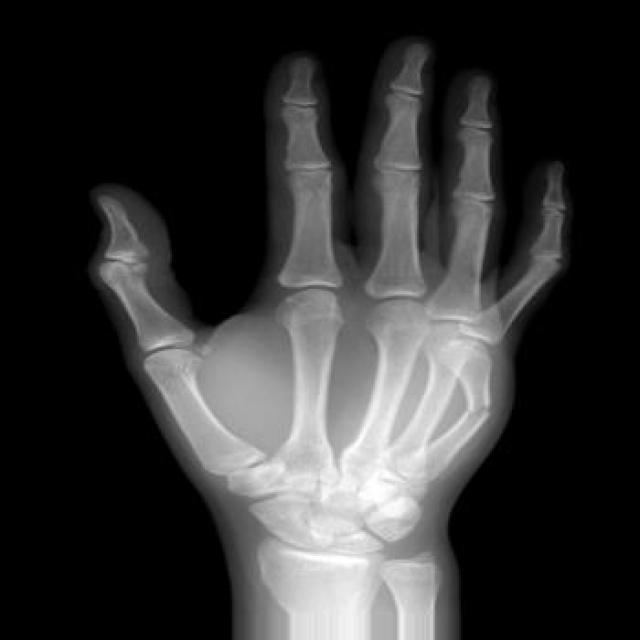Fracture: (454, 402, 499, 426)
